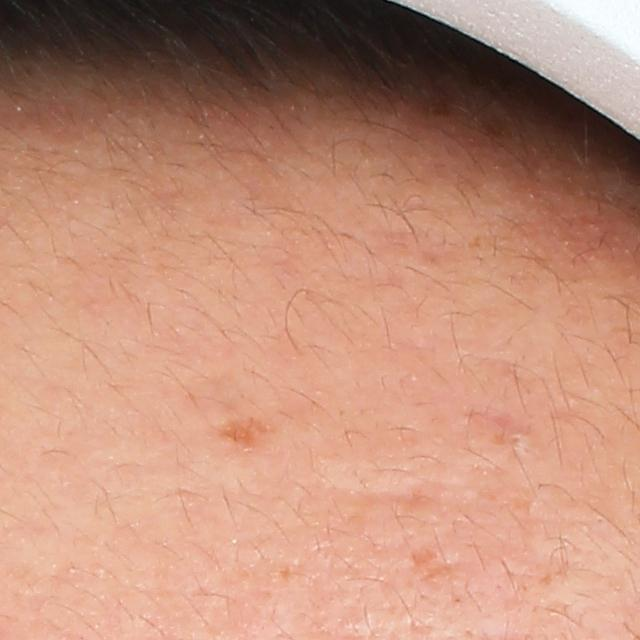atrophic_scar: (356, 479, 435, 511), (411, 544, 456, 588)
